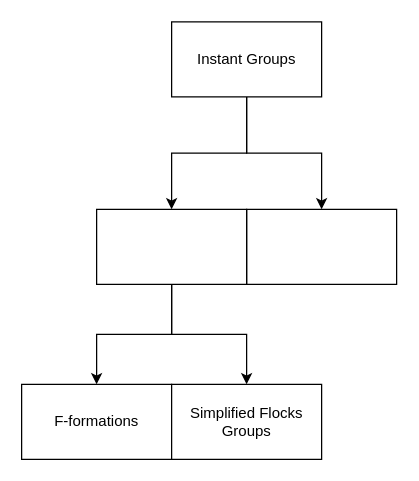
The diagram is 419 pixels wide and 481 high, and some of its shapes have lost their labels. Each missing label, with the centre of its shape:
"Entry Groups" goes at [321,246].
"Integrated Groups" goes at [171,246].
